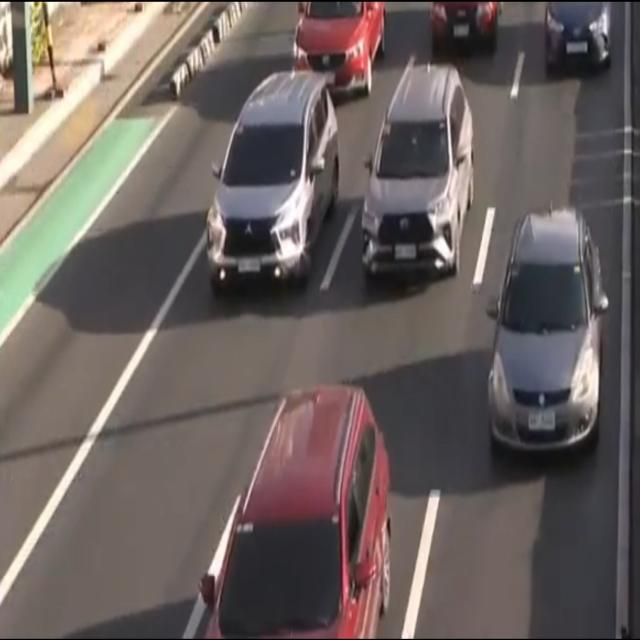SUV: (198, 385, 388, 640), (208, 68, 338, 285), (358, 65, 476, 280)
Sedan: (487, 209, 603, 456), (288, 0, 386, 89), (547, 3, 609, 81)
